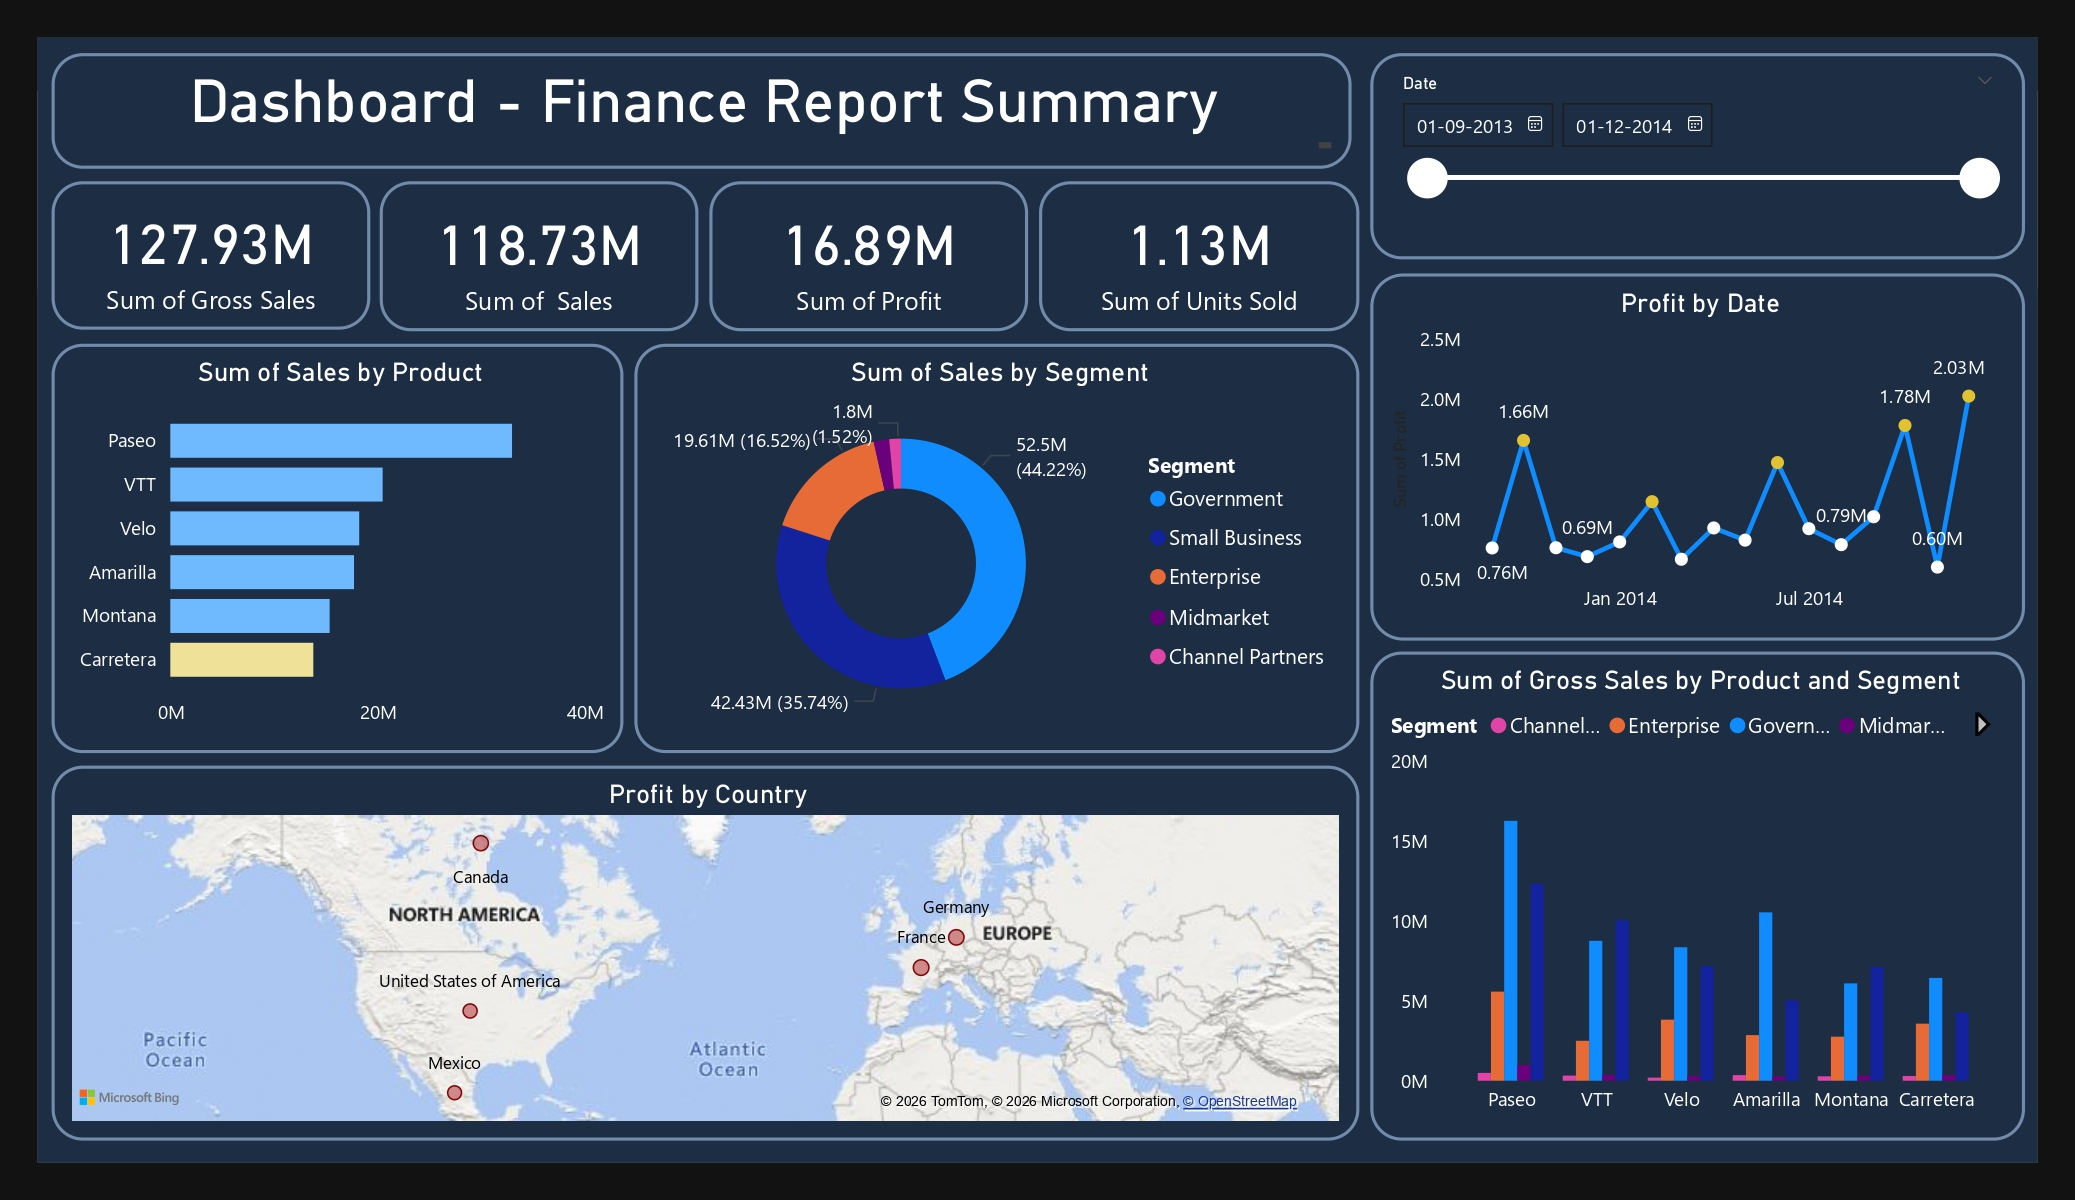

The page's visual inventory and layout, read from the dashboard file:
{"tool":"powerbi","page":{"name":"Page 1","canvas":[1280,720],"ordinal":0},"visuals":[{"type":"card","title":"Sum of Gross Sales","fields":{"Values":["Sum(Financial.Gross Sales)"]},"box":[8.9,92,204,95],"z":0},{"type":"card","fields":{"Values":["Sum(Financial. Sales)"]},"box":[219,92,204,95.6],"z":1000},{"type":"barChart","fields":{"Category":["Financial.Product"],"Y":["Sum(Financial. Sales)"]},"box":[8.9,195.6,366,262.2],"z":2000},{"type":"donutChart","fields":{"Category":["Financial.Segment"],"Y":["Sum(Financial. Sales)"]},"box":[382.2,195.6,463.3,262.2],"z":3000},{"type":"map","title":"Profit by Country","fields":{"Category":["Financial.Country"],"Size":["Sum(Financial.Profit)"]},"box":[8.9,465.6,836.7,240],"z":4000},{"type":"clusteredColumnChart","fields":{"Category":["Financial.Product"],"Y":["Sum(Financial.Gross Sales)"],"Series":["Financial.Segment"]},"box":[853.3,393.3,418.9,312.2],"z":5000},{"type":"slicer","fields":{"Values":["Financial.Date"]},"box":[853.3,10,418.9,132.2],"z":6000},{"type":"card","fields":{"Values":["Sum(Financial.Profit)"]},"box":[430,92,204,95.6],"z":7000},{"type":"card","fields":{"Values":["Sum(Financial.Units Sold)"]},"box":[641.1,92,204.4,95.6],"z":8000},{"type":"lineChart","title":"Profit by Date","fields":{"Y":["Sum(Financial.Profit)"],"Category":["Financial.Date.Variation.Date Hierarchy.Year","Financial.Date.Variation.Date Hierarchy.Quarter","Financial.Date.Variation.Date Hierarchy.Month","Financial.Date.Variation.Date Hierarchy.Day"]},"box":[853.3,151.1,418.9,234.4],"z":9000},{"type":"textbox","title":"Dashboard - Finance Report Summary","box":[8.9,10,832.2,74.4],"z":10000}]}

Visuals, with their boxes in screenshot pixels (x1, y1, x2, y2):
"Sum of Gross Sales" card: (left=62, top=174, right=377, bottom=321)
card - Sum(Financial. Sales): (left=386, top=174, right=701, bottom=322)
barChart - Financial.Product x Sum(Financial. Sales): (left=62, top=334, right=627, bottom=738)
donutChart - Financial.Segment x Sum(Financial. Sales): (left=638, top=334, right=1352, bottom=738)
"Profit by Country" map: (left=62, top=750, right=1353, bottom=1120)
clusteredColumnChart - Financial.Product x Sum(Financial.Gross Sales): (left=1364, top=639, right=2010, bottom=1120)
slicer - Financial.Date: (left=1364, top=48, right=2010, bottom=252)
card - Sum(Financial.Profit): (left=712, top=174, right=1026, bottom=322)
card - Sum(Financial.Units Sold): (left=1037, top=174, right=1352, bottom=322)
"Profit by Date" lineChart: (left=1364, top=265, right=2010, bottom=627)
"Dashboard - Finance Report Summary" textbox: (left=62, top=48, right=1346, bottom=163)
